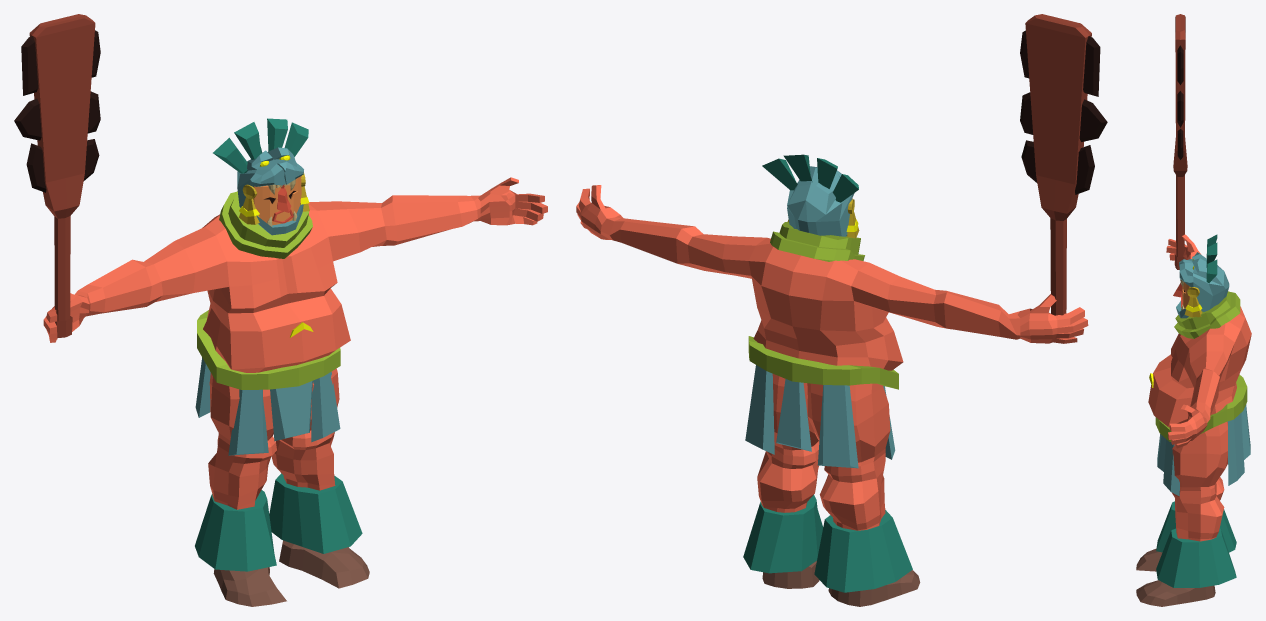
Rendered from Moctezuma 1.fbx.
The picture shows the model from 3 angles, left to right: view 1: azimuth 30°, elevation 25°; view 2: azimuth 150°, elevation 25°; view 3: azimuth 270°, elevation 25°; orthographic projection. The views are drawn at different scales.
Parts seen in each view (by area): view 1: Sphere.002; view 2: Sphere.002; view 3: Sphere.002.
Part boxes in pixels (x1,y1,x2,y2): Sphere.002: [14, 14, 547, 606]; Sphere.002: [576, 14, 1107, 606]; Sphere.002: [1136, 14, 1251, 606].
Bounding box in the file's own units: 5257 × 5795 × 1285.
